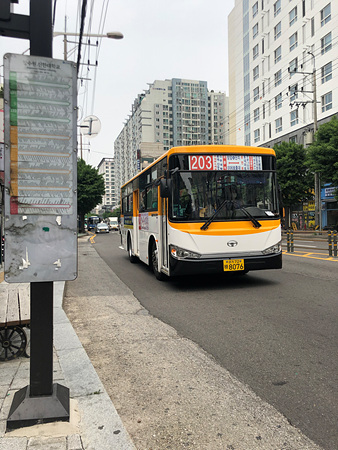bnum: (190, 154, 212, 168)
